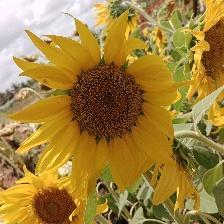sunflower: (29, 41, 178, 177), (1, 161, 91, 224), (186, 1, 224, 125), (96, 1, 143, 32), (152, 24, 165, 47)
